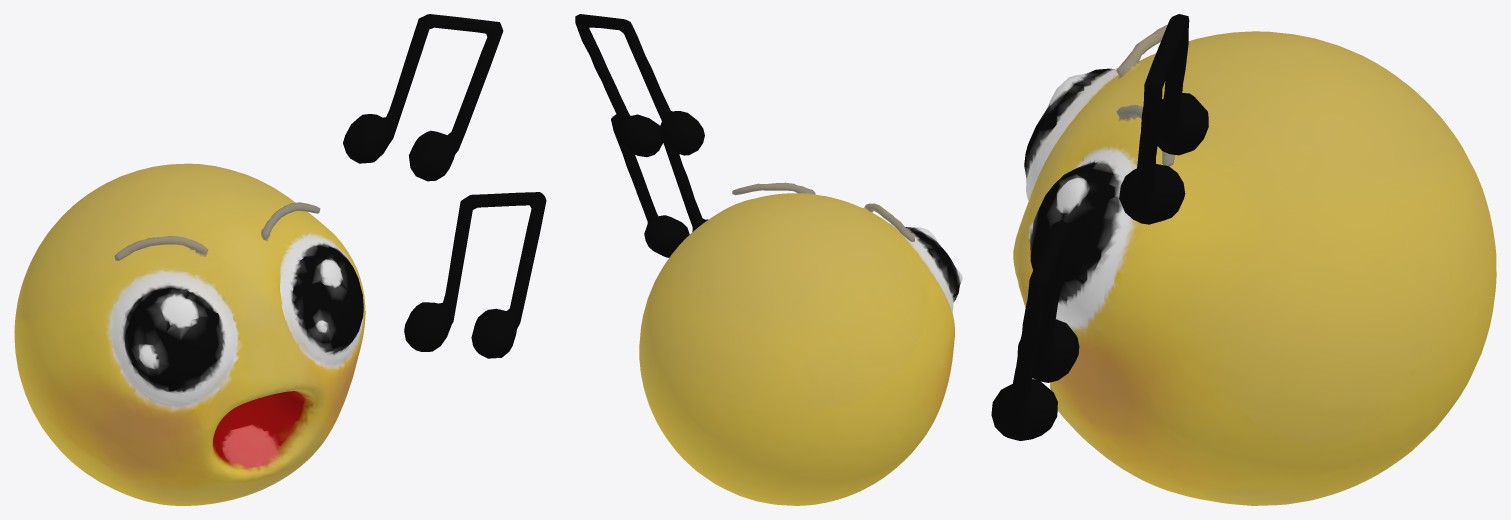
File: emoji_music.glb
3 renders of one model, left to right at view 1: azimuth 30°, elevation 25°; view 2: azimuth 150°, elevation 25°; view 3: azimuth 270°, elevation 25°, orthographic. The views are drawn at different scales.
Parts seen in each view (by area): view 1: Layer_1, Layer_2, Layer_3; view 2: Layer_1, Layer_3, Layer_2; view 3: Layer_1, Layer_2, Layer_3.
Boxes of the visible parts, <box> form: Layer_1: <box>14,163,365,505</box>; Layer_2: <box>404,192,546,358</box>; Layer_3: <box>343,14,503,181</box>; Layer_1: <box>639,182,962,505</box>; Layer_3: <box>575,14,704,157</box>; Layer_2: <box>611,114,708,257</box>; Layer_1: <box>1013,25,1496,505</box>; Layer_2: <box>991,220,1079,440</box>; Layer_3: <box>1119,14,1208,224</box>.
Bounding box in the file's own units: 0.2431 × 0.2403 × 0.1786.
